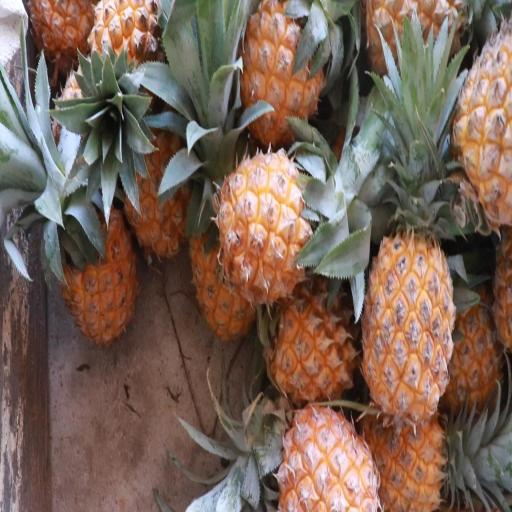Pineapple - v8 v1: (359, 196, 456, 427), (214, 144, 320, 314), (58, 170, 142, 356), (355, 360, 452, 512), (445, 16, 512, 233), (262, 267, 362, 411), (238, 0, 332, 150), (118, 95, 197, 270), (270, 399, 379, 512)
